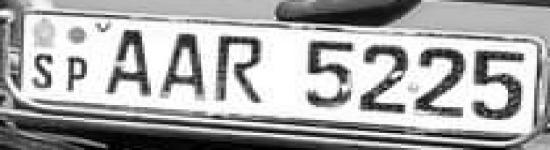2: (414, 44, 470, 128), (359, 39, 413, 119)
5: (470, 46, 530, 125), (302, 34, 359, 116)
A: (99, 24, 155, 102), (156, 26, 212, 103)
P: (61, 54, 90, 93)
R: (212, 32, 272, 110)
S: (28, 49, 57, 92)
